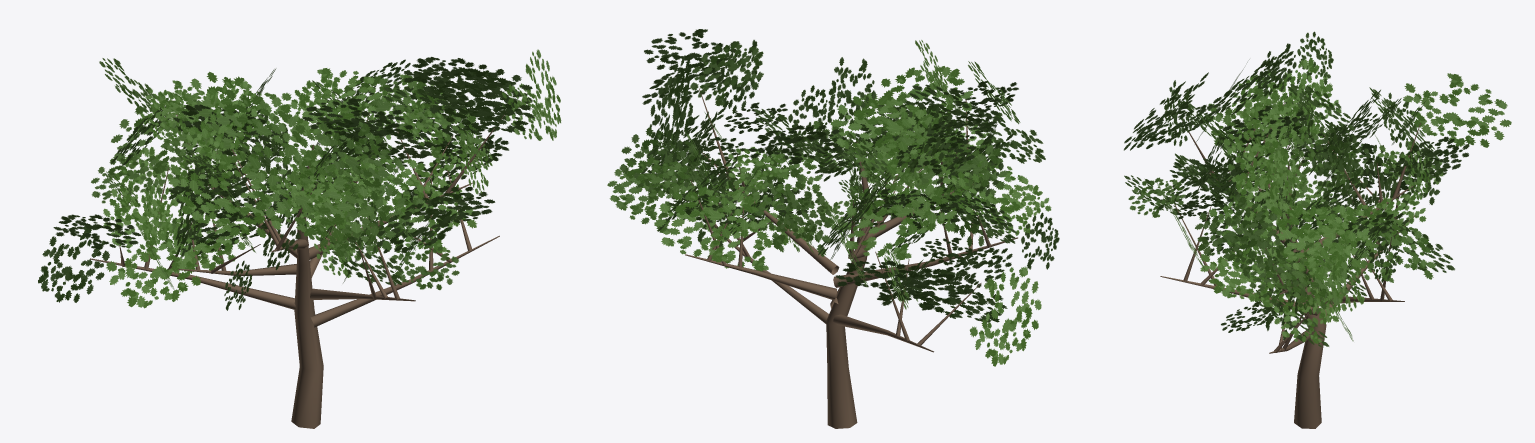
Rendered from oak-67-balanced.glb.
3 views of the same model, side by side, from view 1: azimuth 30°, elevation 25°; view 2: azimuth 150°, elevation 25°; view 3: azimuth 270°, elevation 25° (orthographic). The views are drawn at different scales.
Parts seen in each view (by area): view 1: LeafCards, Wood; view 2: LeafCards, Wood; view 3: LeafCards, Wood.
Part boxes in pixels (left/top/right/bottom): LeafCards: left=38, top=49, right=561, bottom=310; Wood: left=90, top=112, right=506, bottom=428; LeafCards: left=607, top=29, right=1059, bottom=366; Wood: left=685, top=88, right=1017, bottom=428; LeafCards: left=1124, top=31, right=1511, bottom=347; Wood: left=1160, top=102, right=1420, bottom=428.
Size of the model in its own units: 19.66 by 14.86 by 15.93.
2 materials, 1 textured.
